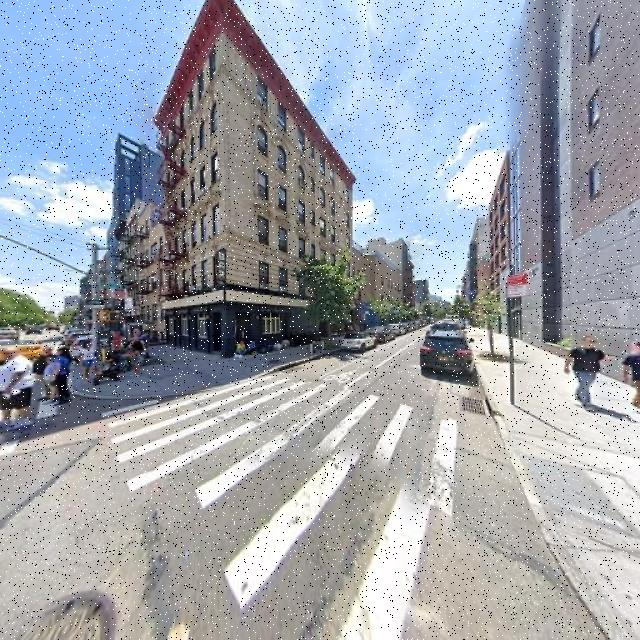Building: (163, 1, 352, 358), (524, 1, 640, 388)
